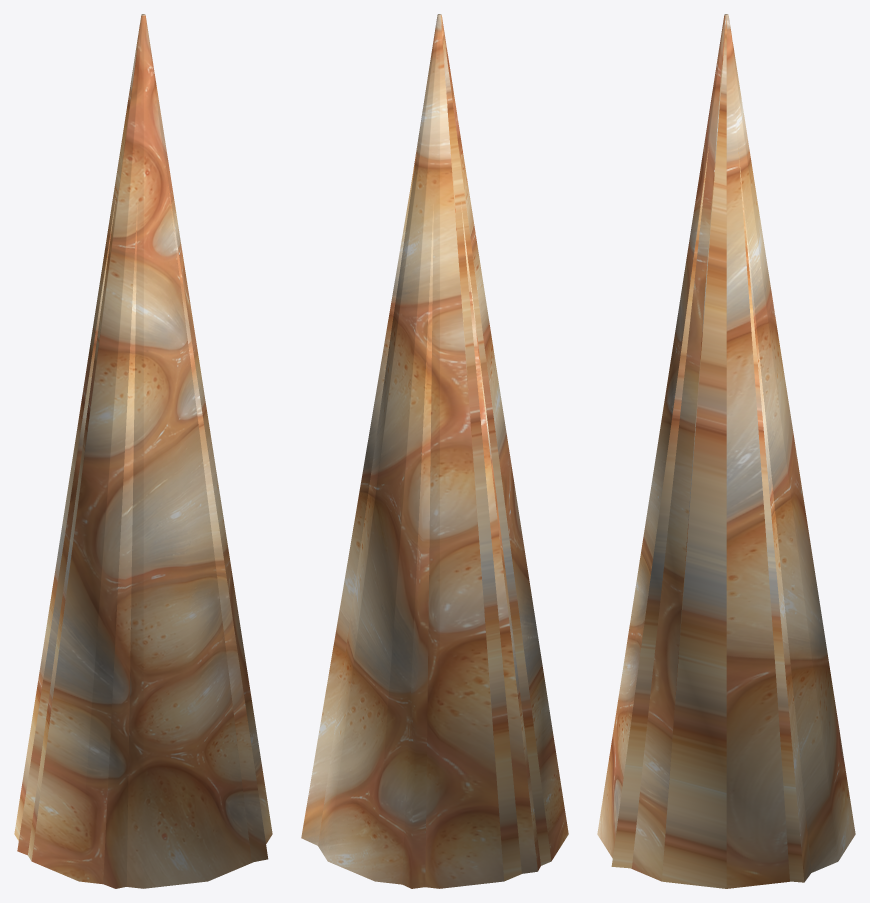
The model's file is spike_basic.fbx.
The picture shows the model from 3 angles, left to right: view 1: azimuth 30°, elevation 25°; view 2: azimuth 150°, elevation 25°; view 3: azimuth 270°, elevation 25°; orthographic projection.
Visible parts, largest first — view 1: spike_basic_VIS, spike_basic_COL; view 2: spike_basic_VIS, spike_basic_COL; view 3: spike_basic_VIS, spike_basic_COL.
Boxes of the visible parts, box(x1,y1,x2,y2) form: spike_basic_VIS: box(14, 14, 272, 888); spike_basic_COL: box(17, 145, 268, 888); spike_basic_VIS: box(318, 14, 568, 888); spike_basic_COL: box(301, 142, 540, 888); spike_basic_VIS: box(597, 14, 855, 888); spike_basic_COL: box(611, 146, 811, 882).
Bounding box in the file's own units: 12.02 × 42.02 × 12.
